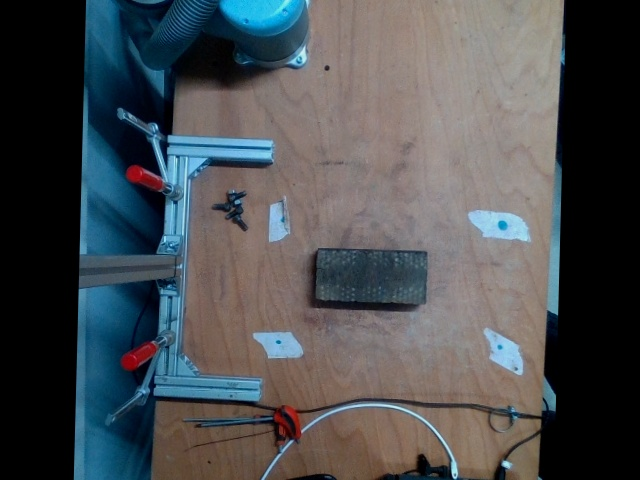brick: (317, 250, 428, 303)
